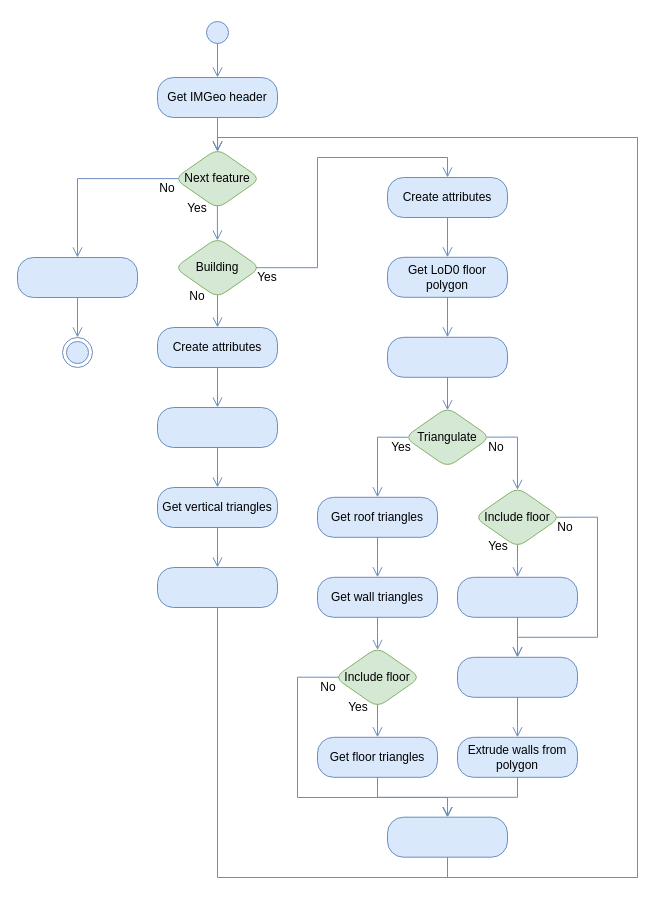
This 665x905 diagram has some shape labels left out. The shapes that lost their labels are listed below. From the top down, each one's centre as x and y in pixels, then its label:
the point at 77,277: Write vertices
the point at 447,356: Get LoD0 roof polygon
the point at 217,427: Get triangles
the point at 217,587: Create MultiSurface
the point at 517,596: Get floor polygon
the point at 517,676: Get roof polygon
the point at 447,836: Create LoD1 Solid
